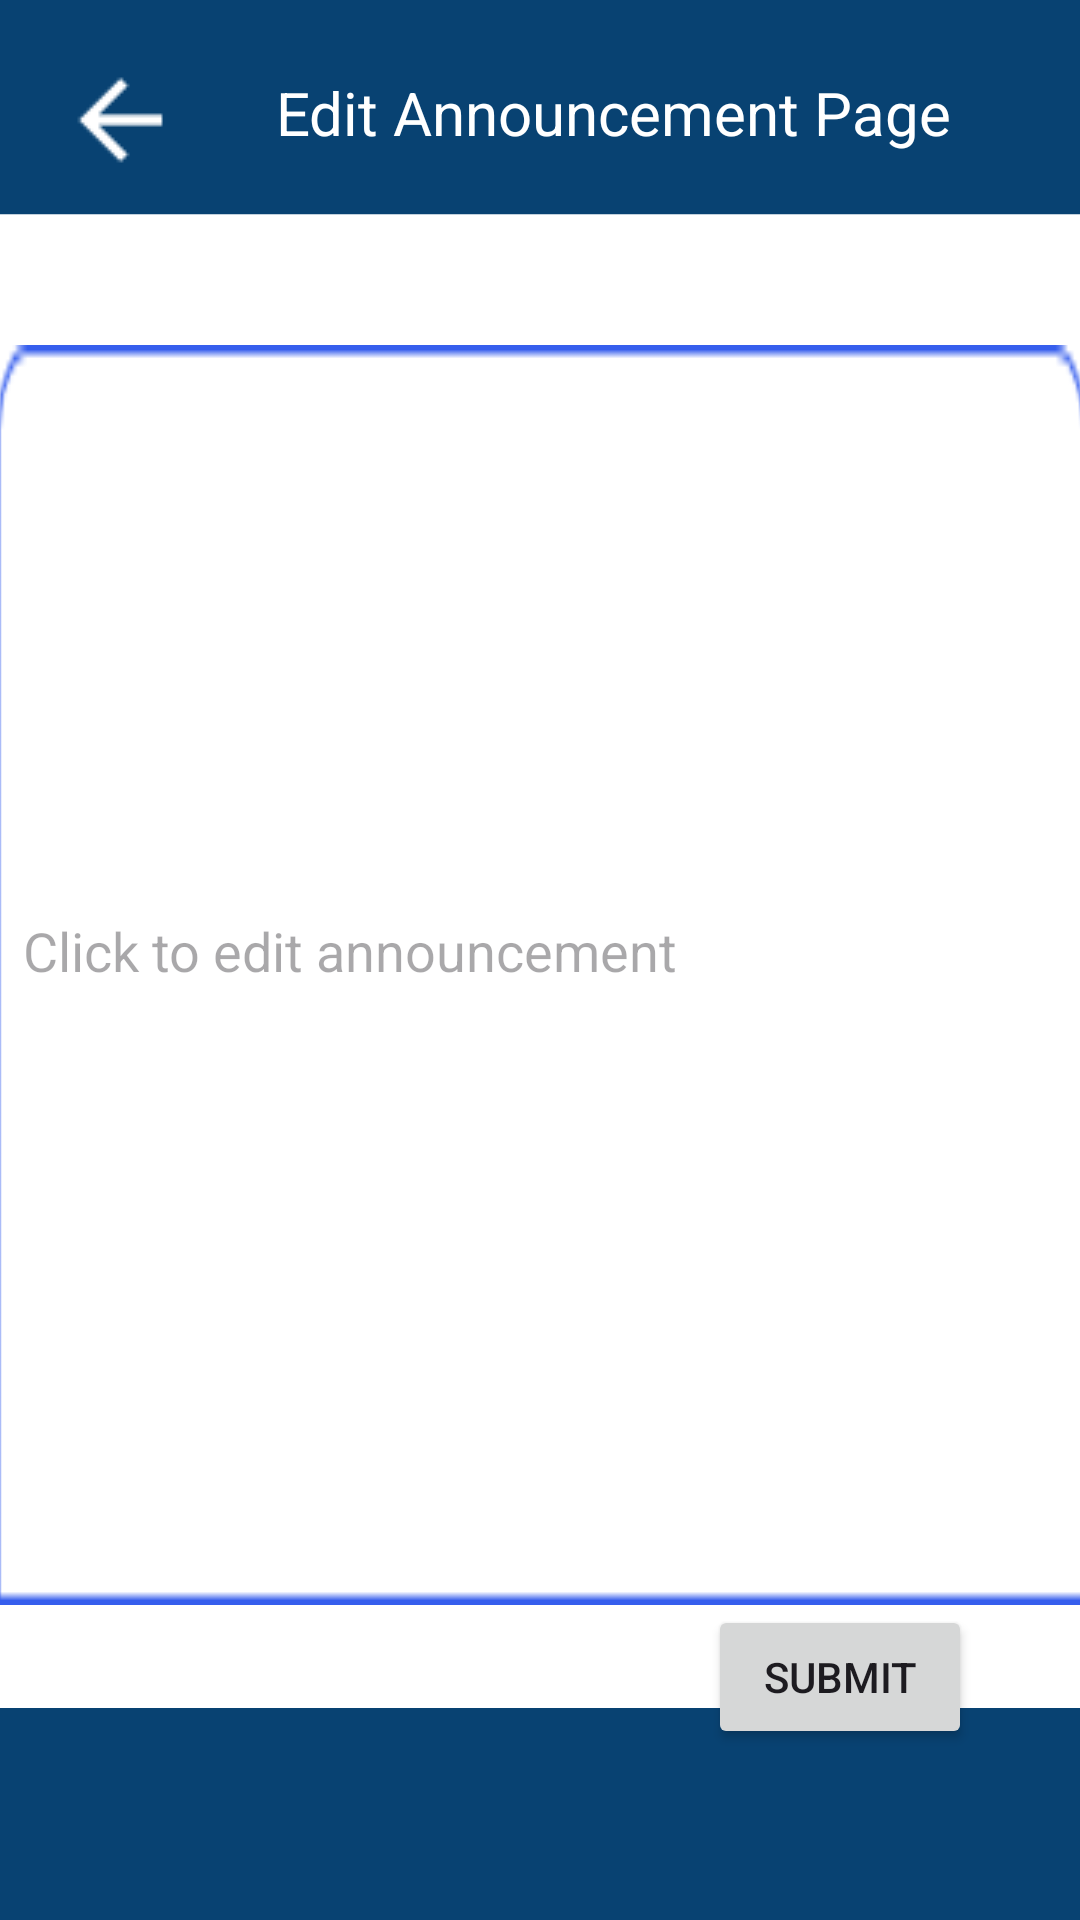

Screen size 1080w x 1920h. Icon name, then its center in pixels as [x,y]:
whiteback: [120,120]
